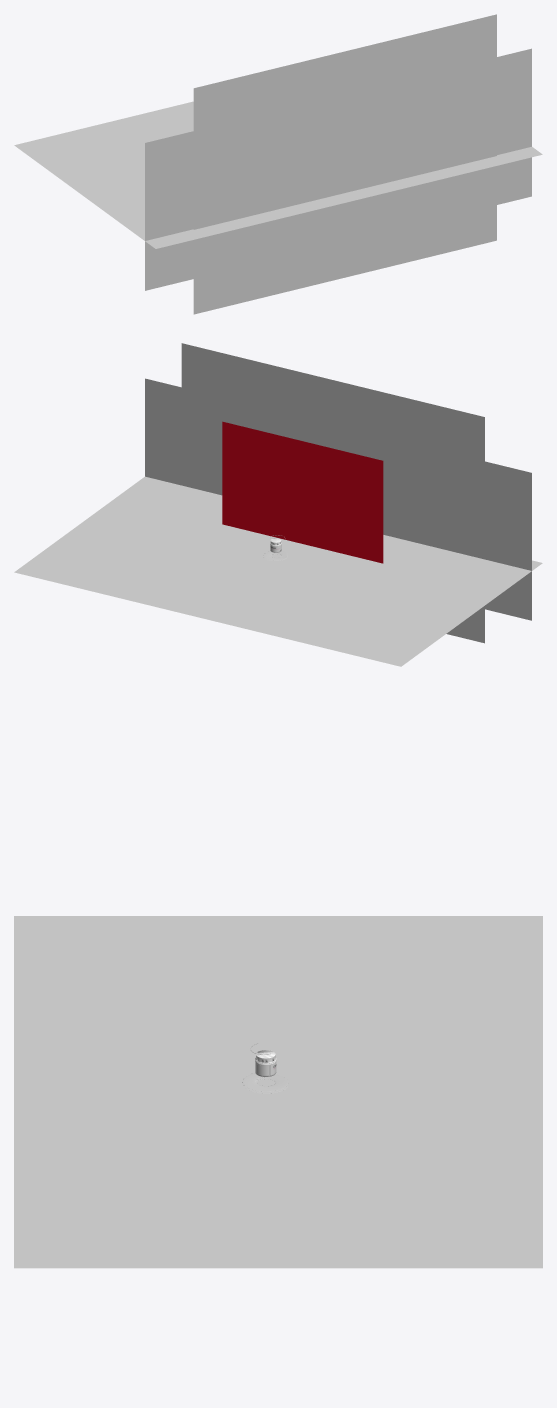
Rendered from cicapair7.fbx.
3 views of the same model, one above another, from view 1: azimuth 30°, elevation 25°; view 2: azimuth 150°, elevation 25°; view 3: azimuth 270°, elevation 25° (orthographic). The views are drawn at different scales.
Visible parts, largest first — view 1: Plane.002, Plane.004, Plane.005; view 2: Plane.004, Plane.005, Plane.003, Plane.002; view 3: Plane.004.
Part boxes in pixels (box(x1,y1,x2,y2)): Plane.002: box(193, 14, 496, 314); Plane.004: box(14, 101, 542, 248); Plane.005: box(145, 48, 531, 290); Plane.004: box(14, 476, 542, 666); Plane.005: box(145, 378, 531, 620); Plane.003: box(222, 421, 383, 563); Plane.002: box(181, 343, 484, 643); Plane.004: box(14, 916, 542, 1268).
Size of the model in its own units: 78325 by 43749 by 49699.
8 materials, 2 textured.
